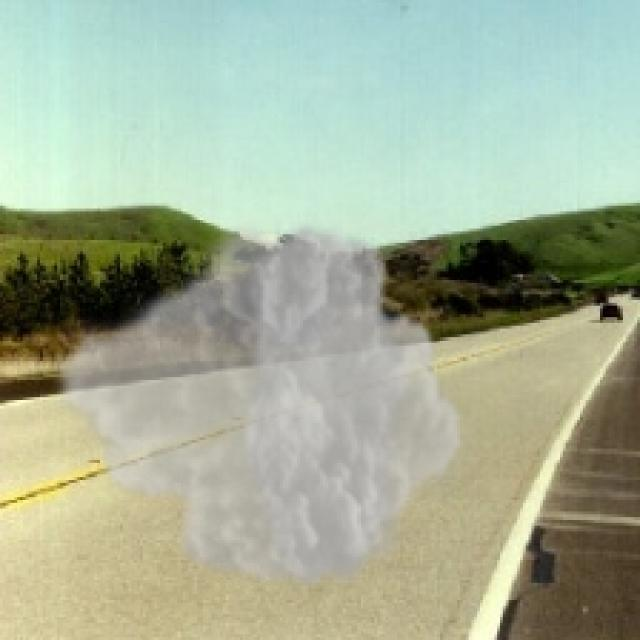Smoke: (49, 214, 468, 597)
